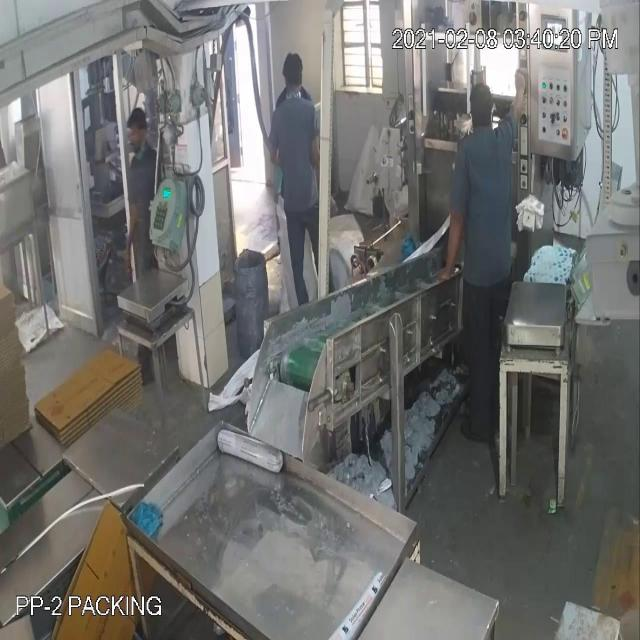No_Gloves: (34, 92, 519, 242)
